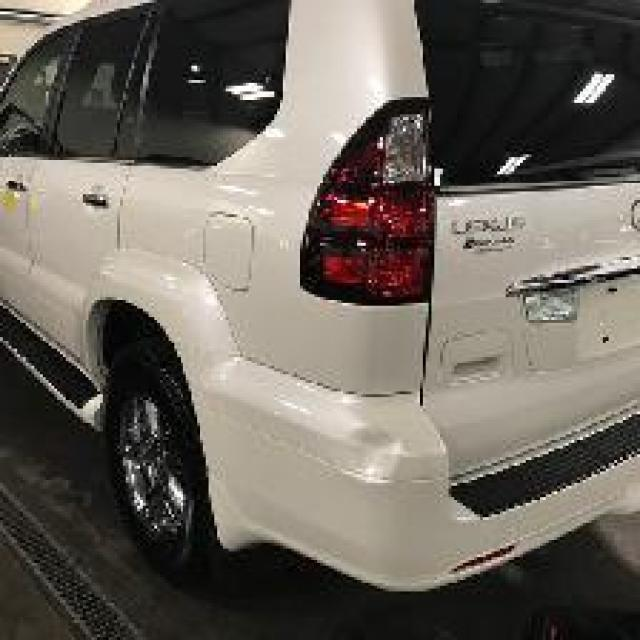damaged: (337, 423, 414, 491)
